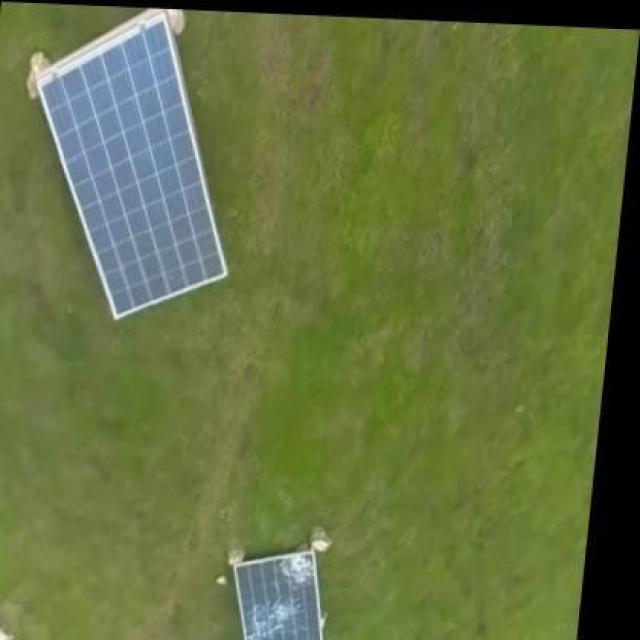cracked: (227, 548, 333, 640)
